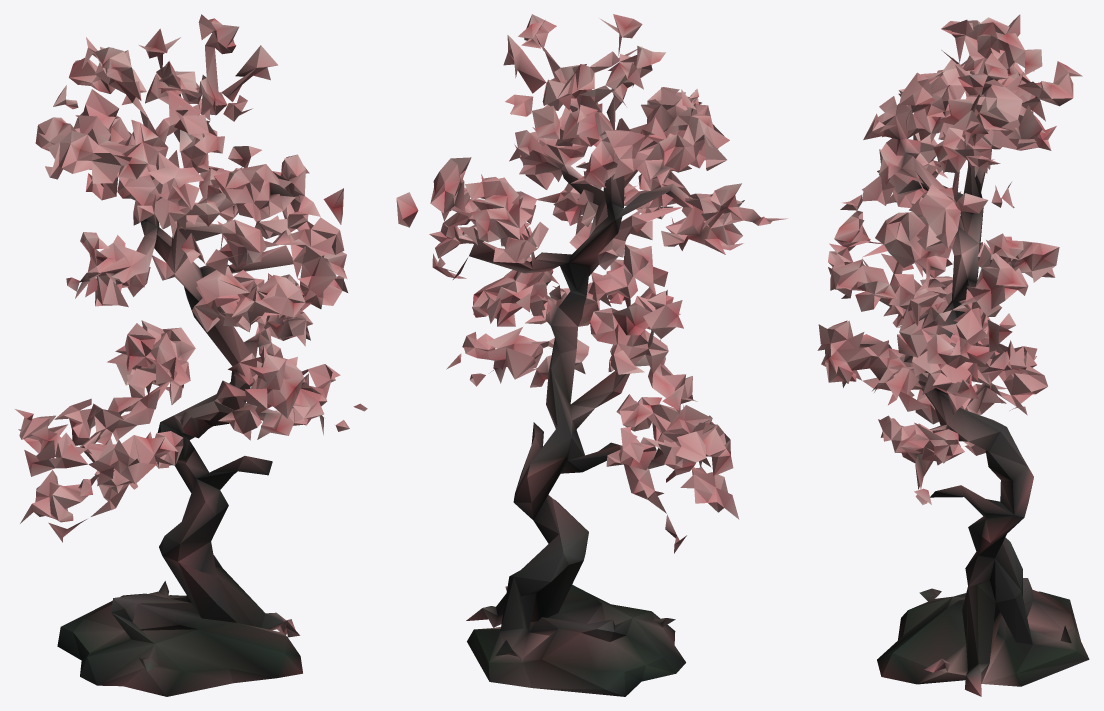
File: tree_peach.vc.glb
3 renders of one model, left to right at view 1: azimuth 30°, elevation 25°; view 2: azimuth 150°, elevation 25°; view 3: azimuth 270°, elevation 25°, orthographic. The views are drawn at different scales.
Visible parts, largest first — view 1: tree_peach; view 2: tree_peach; view 3: tree_peach.
Part boxes in pixels (x1,y1,x2,y2): tree_peach: (15,14,367,696); tree_peach: (396,14,787,696); tree_peach: (817,14,1089,696).
Size of the model in its own units: 1.03 by 1.89 by 0.7599.
